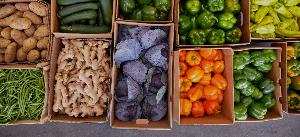bell_pepper: (178, 46, 238, 132), (232, 49, 286, 123), (176, 0, 252, 48), (250, 0, 300, 44), (118, 0, 174, 22), (284, 47, 300, 113)
zucchini: (54, 0, 116, 36)
